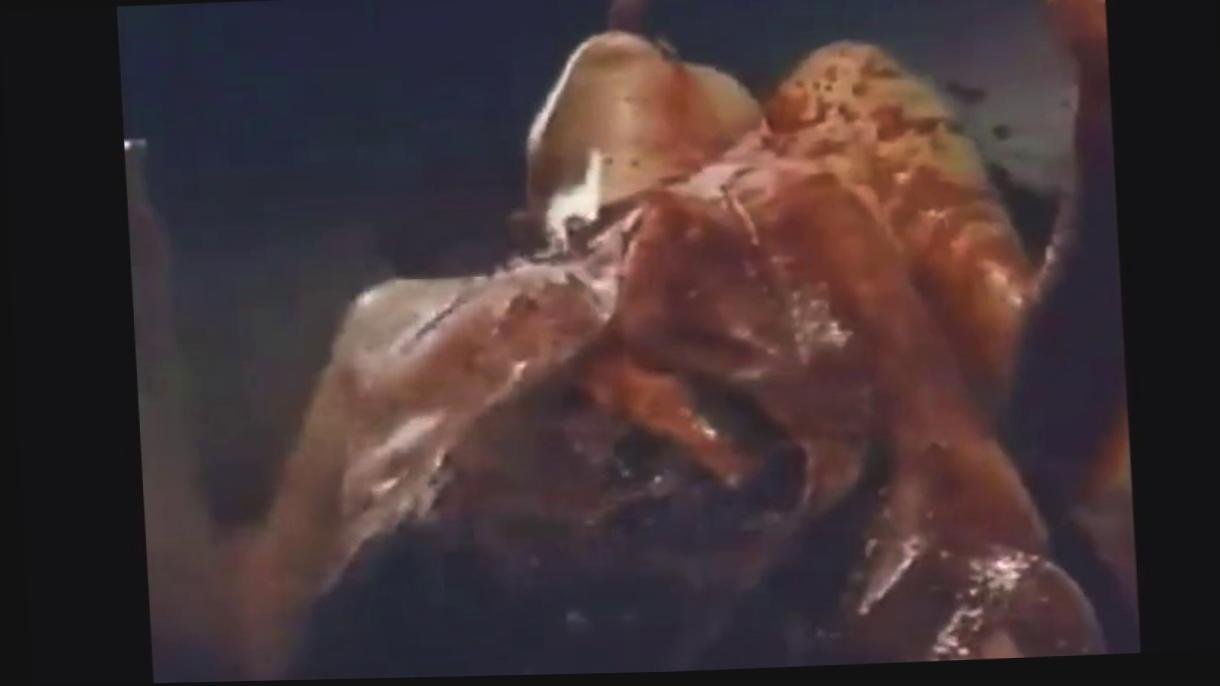Fire: (268, 0, 1136, 682)
